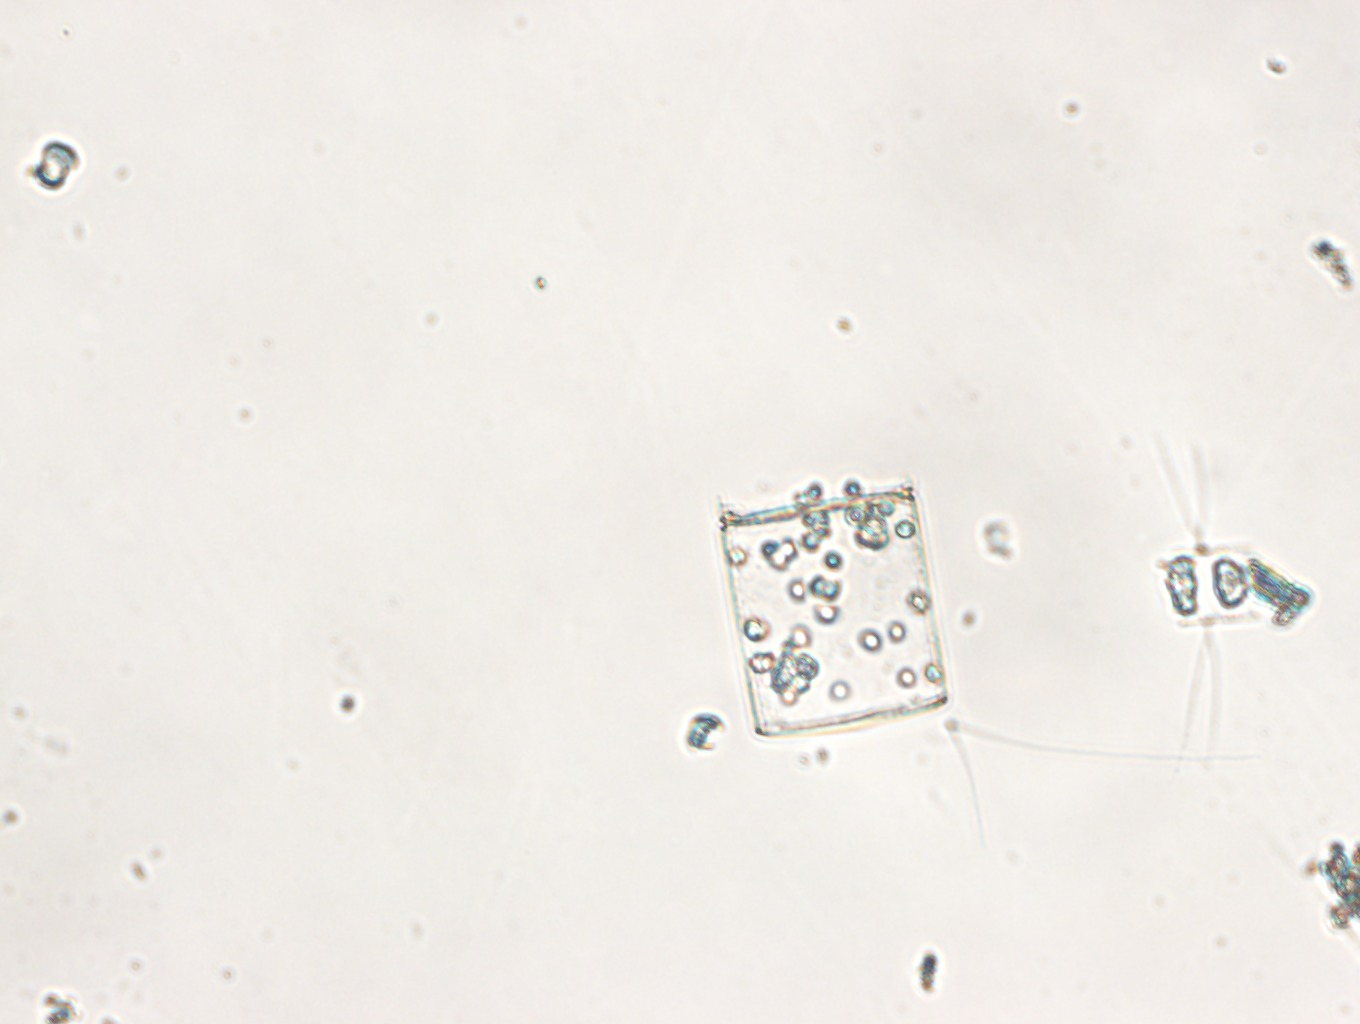chaetoceros: (1155, 431, 1258, 769)
guinardia flaccida: (720, 492, 948, 737)
